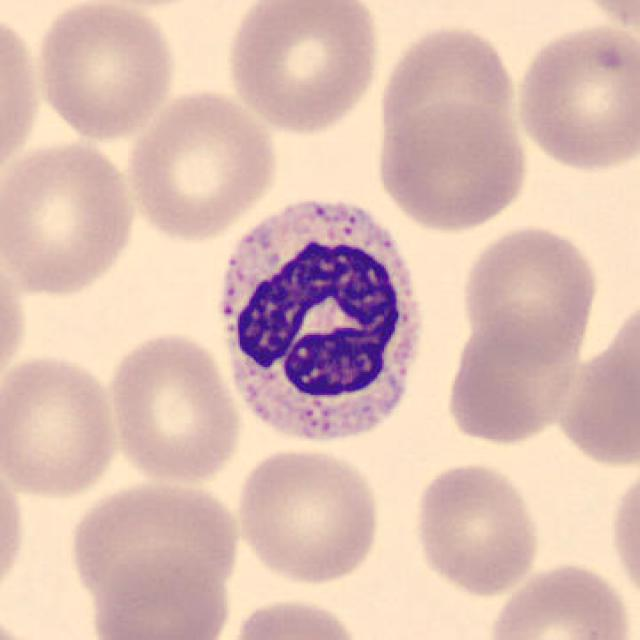Neutrophil: (207, 187, 438, 460)
RBC: (119, 85, 281, 243), (62, 474, 244, 610), (373, 19, 523, 178), (0, 134, 140, 299), (103, 328, 245, 488), (222, 0, 384, 138), (231, 443, 384, 587), (30, 0, 180, 143), (374, 99, 534, 232), (457, 220, 603, 365), (508, 19, 638, 174), (0, 349, 124, 502), (409, 458, 544, 598), (445, 306, 576, 440), (87, 546, 236, 640), (562, 303, 640, 467), (484, 557, 634, 640), (0, 5, 44, 190), (222, 594, 364, 640), (606, 460, 640, 612), (0, 242, 30, 400), (0, 457, 30, 610), (562, 0, 640, 35)
